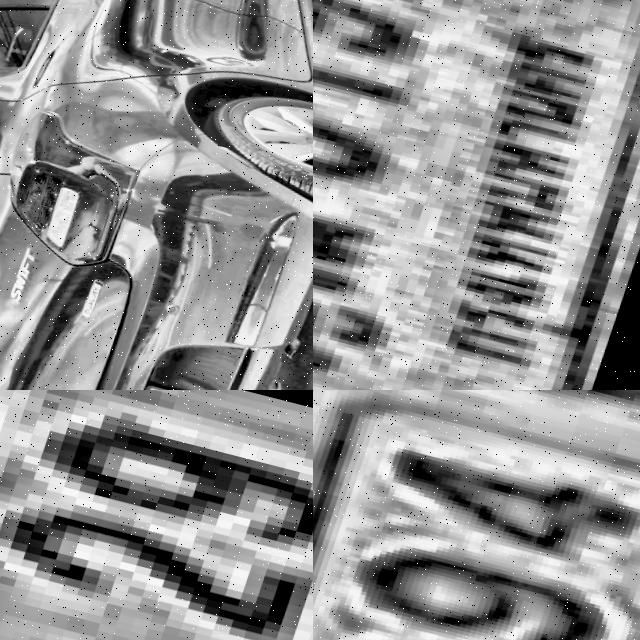license-plate: (313, 0, 640, 390), (313, 390, 640, 640), (0, 390, 313, 640)
